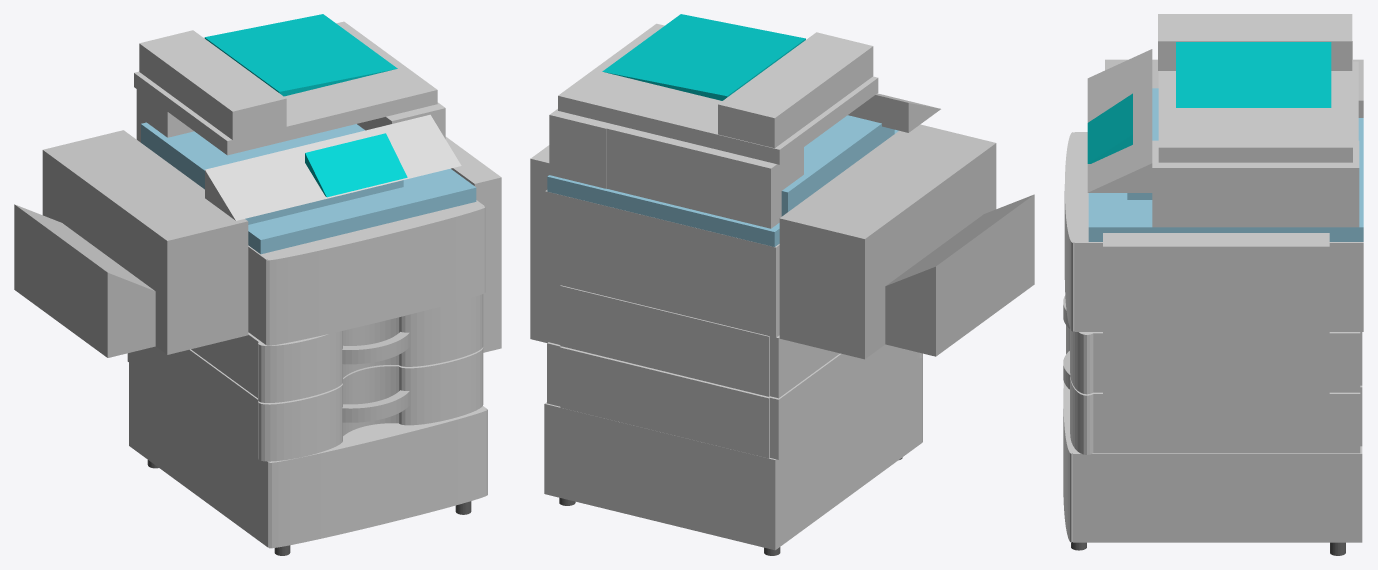
File: printer_photocopier.dae
3 renders of one model, left to right at view 1: azimuth 30°, elevation 25°; view 2: azimuth 150°, elevation 25°; view 3: azimuth 270°, elevation 25°, orthographic. The views are drawn at different scales.
Parts seen in each view (by area): view 1: Cube_1_39; view 2: Cube_1_39; view 3: Cube_1_39.
Part boxes in pixels (<box>): Cube_1_39: <box>14,14,501,555</box>; Cube_1_39: <box>530,14,1034,555</box>; Cube_1_39: <box>1063,14,1363,555</box>.
Bounding box in the file's own units: 1.4 × 0.92 × 1.47.
